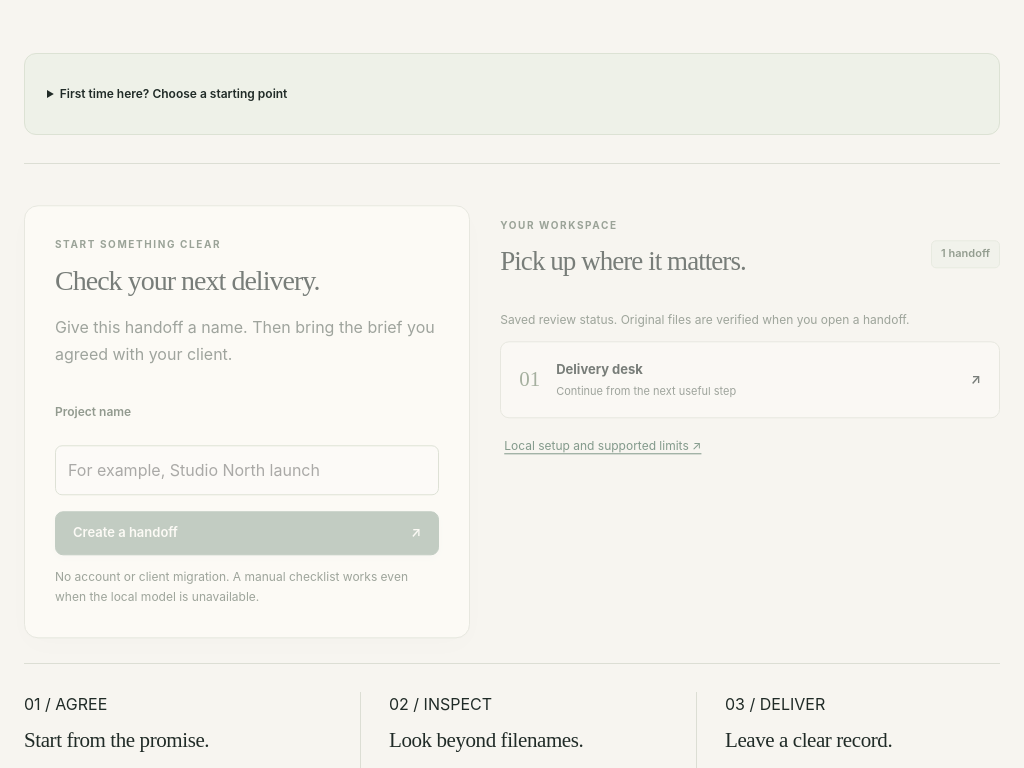
Scenario: finishes unreviewed items before revisiting saved needs-work decisions
(page scrolled)
Click the button with aria-label "Delivery desk ↗". click: {"x": 600, "y": 365}
box: [500,337,1000,414]
(page scrolled)
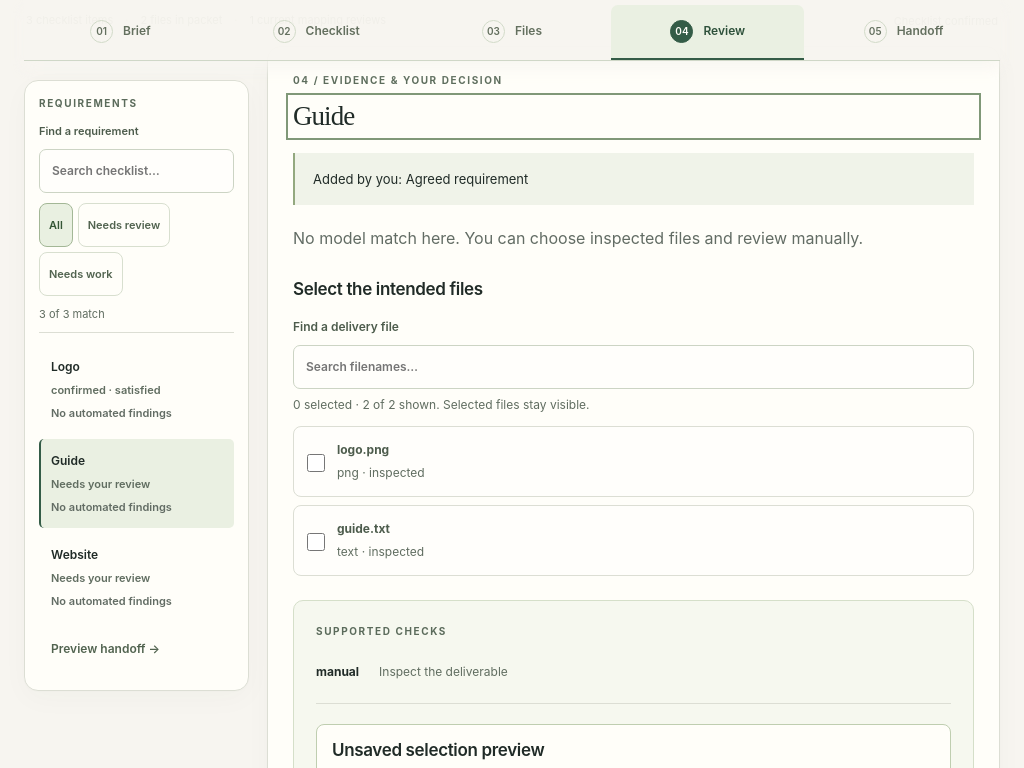
Check: the heading "Guide" is shown, box [293,101,354,131]
Click the checkbox labelled "guide.txt text · inspected". click: {"x": 316, "y": 542}
box: [307,533,325,551]
(page scrolled)
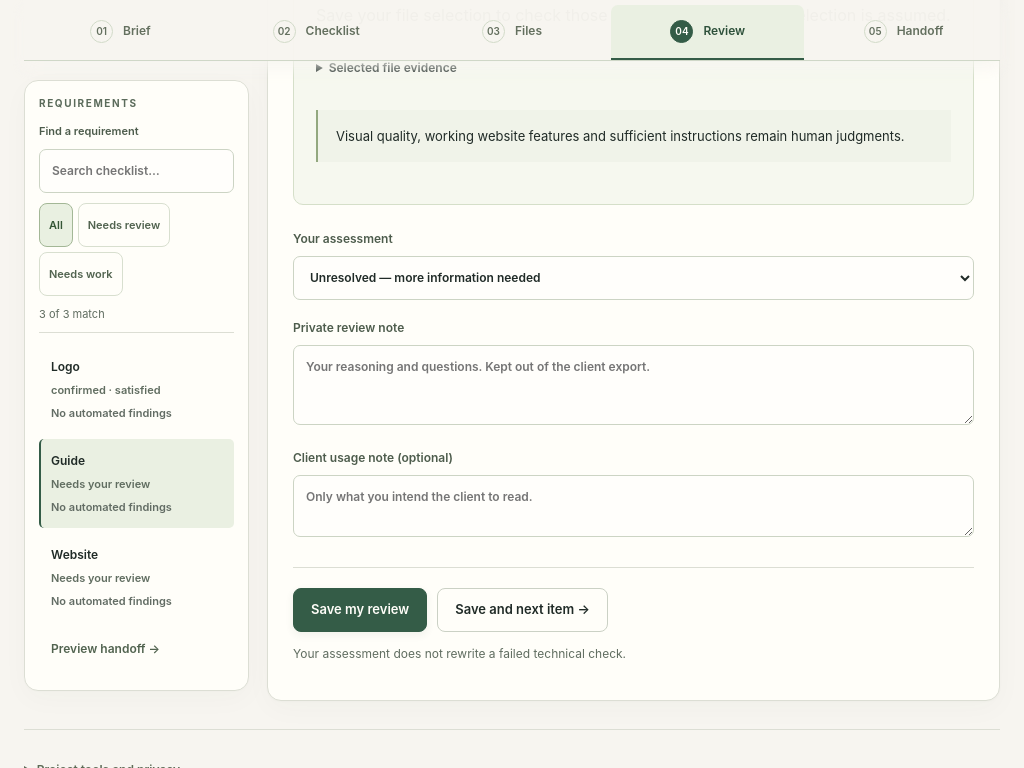
Type "Read the guide and checked its steps." into the text box labelled "Private review note". click: {"x": 634, "y": 385}
box: [293,345,974,425]
Select "Satisfied by my review" in the dropdown labelled "Your assessment". click: {"x": 634, "y": 278}
box: [293,256,974,300]
Select "Needs work" in the dropdown labelled "Your assessment". click: {"x": 634, "y": 278}
box: [293,256,974,300]
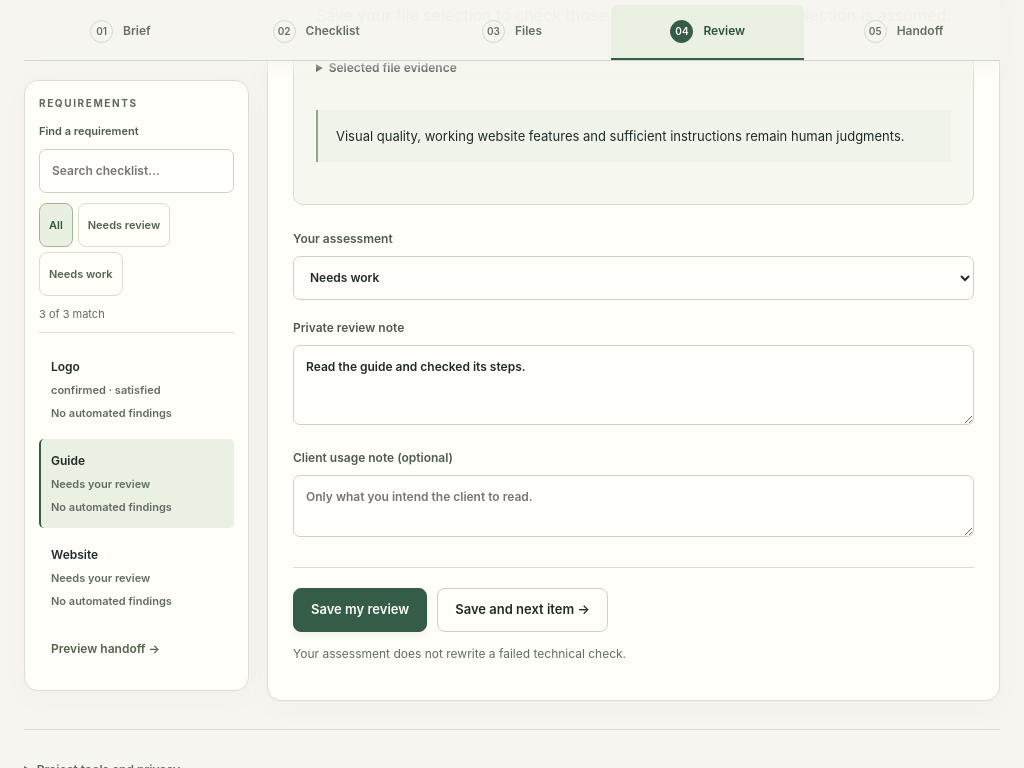
Click the button "Save and next item →". click: {"x": 522, "y": 610}
box: [437,588,608,632]
(page scrolled)
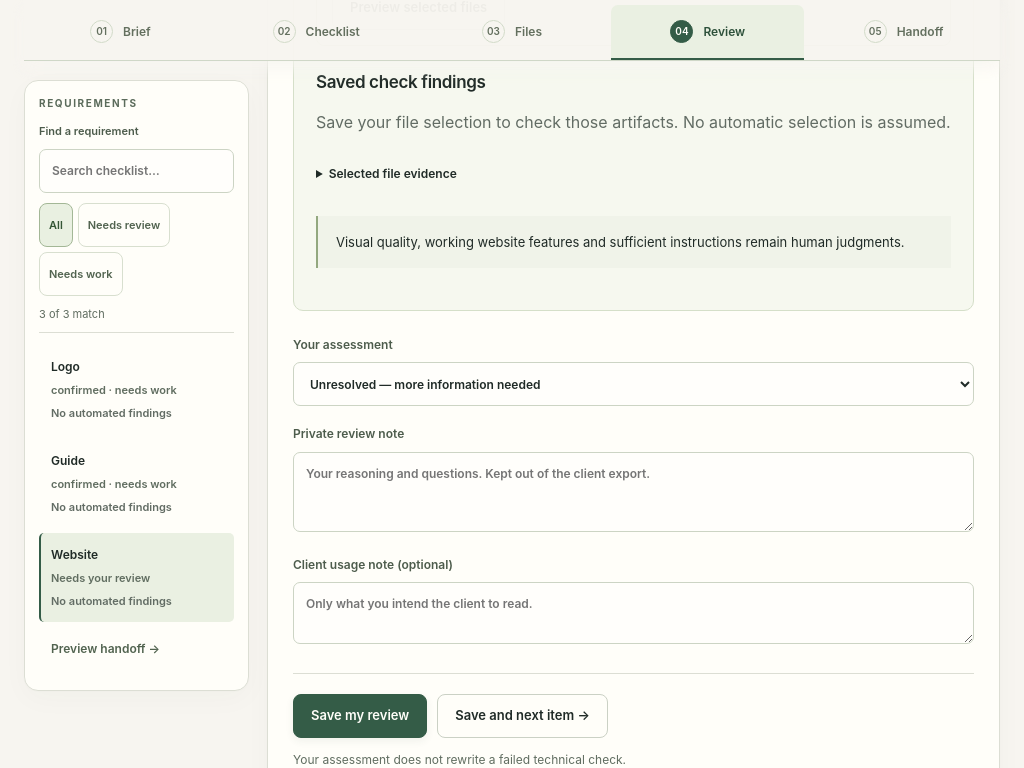
Select "Needs work" in the dropdown labelled "Your assessment". click: {"x": 634, "y": 384}
box: [293,362,974,406]
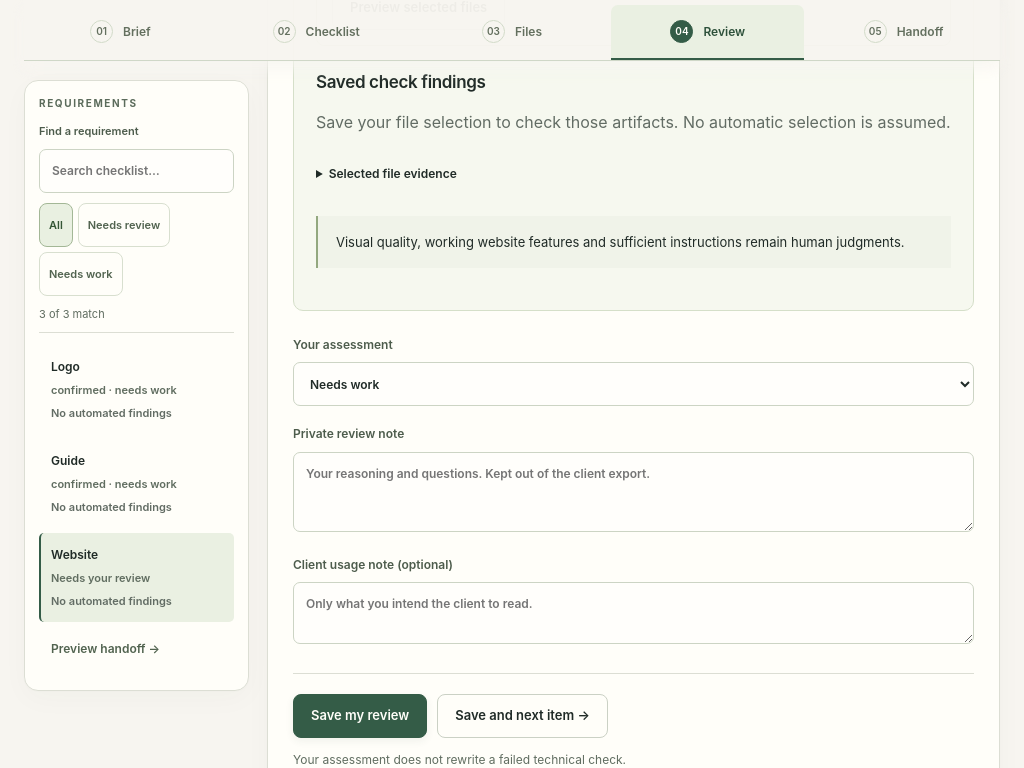
Click the button "Save and next item →". click: {"x": 522, "y": 716}
box: [437,694,608,738]
(page scrolled)
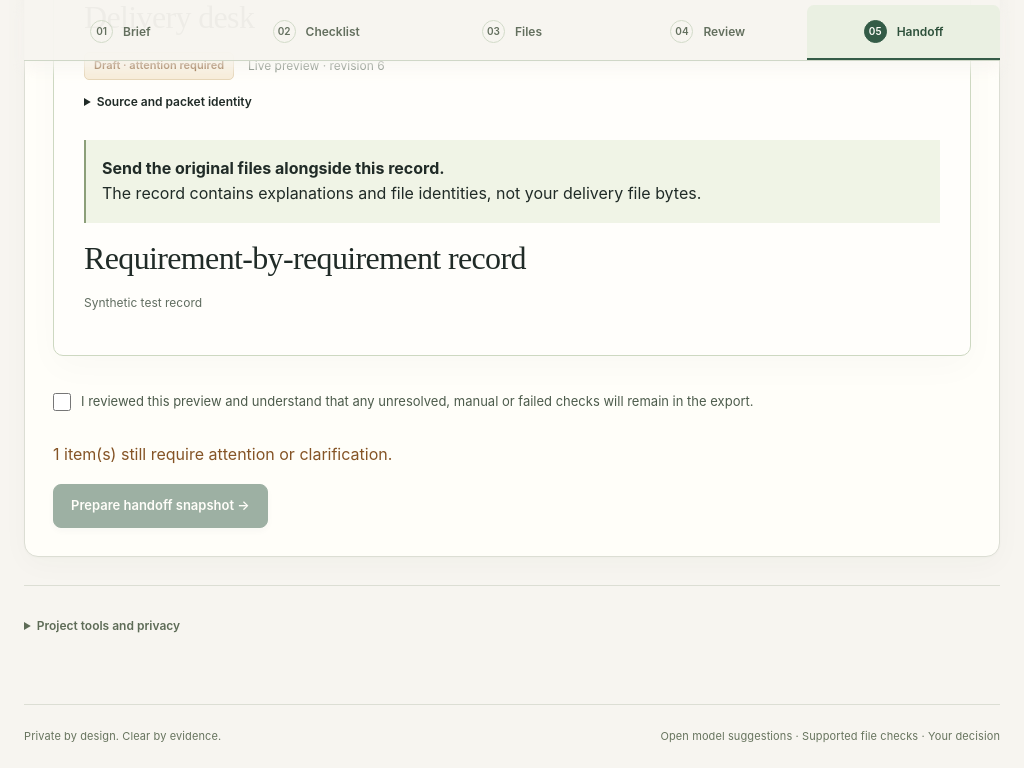
Check: the text "1 item(s) still require attention or clarification." is shown, box [53,444,392,464]
